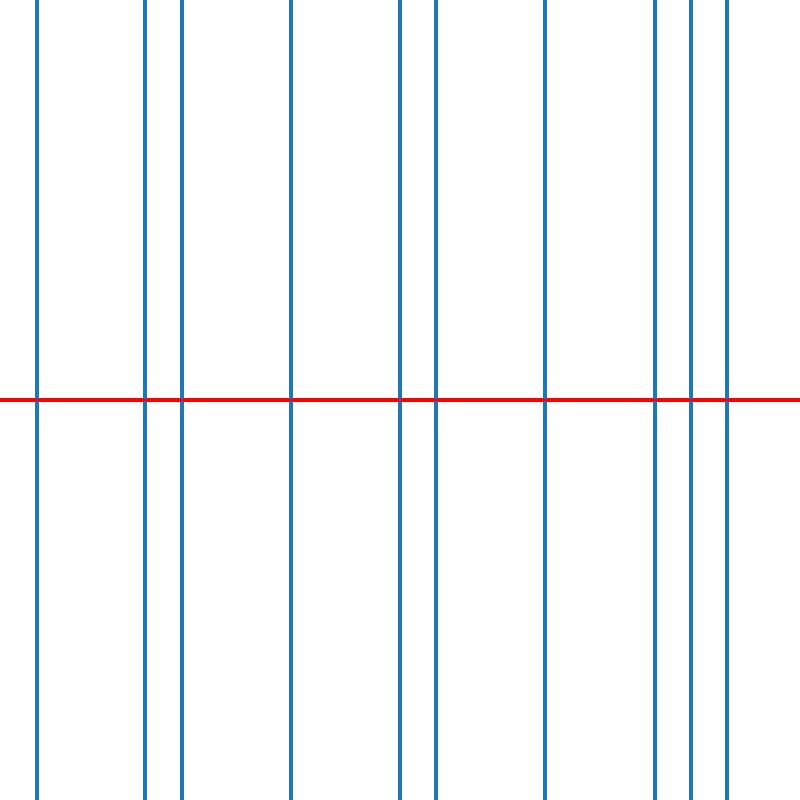root: (32, 396, 40, 404), (650, 396, 658, 404), (141, 396, 149, 404), (432, 396, 440, 404), (541, 396, 549, 404), (396, 396, 403, 404), (723, 396, 730, 404), (178, 396, 185, 404), (687, 396, 694, 404), (287, 396, 294, 404)
